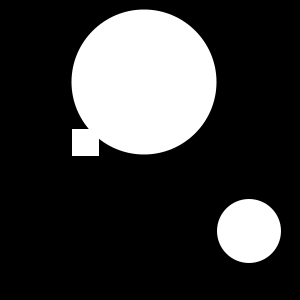circle: (72, 129, 99, 156)
rectangle: (72, 9, 216, 154), (217, 199, 281, 263)
